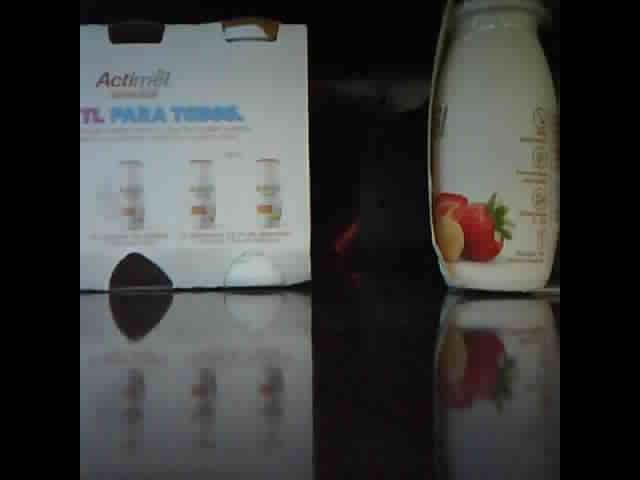actimel: (79, 21, 313, 288), (429, 1, 561, 296)
